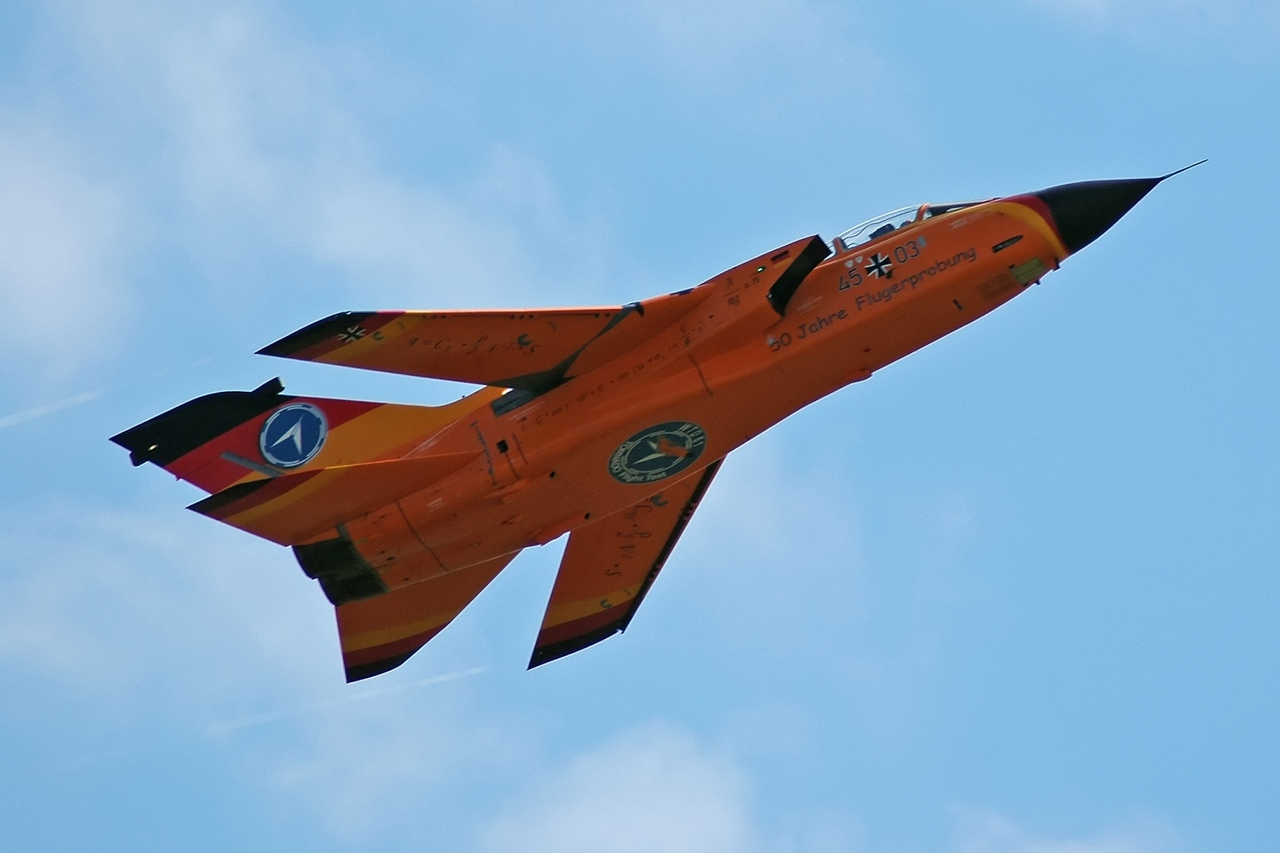Tornado: (107, 158, 1209, 684)
